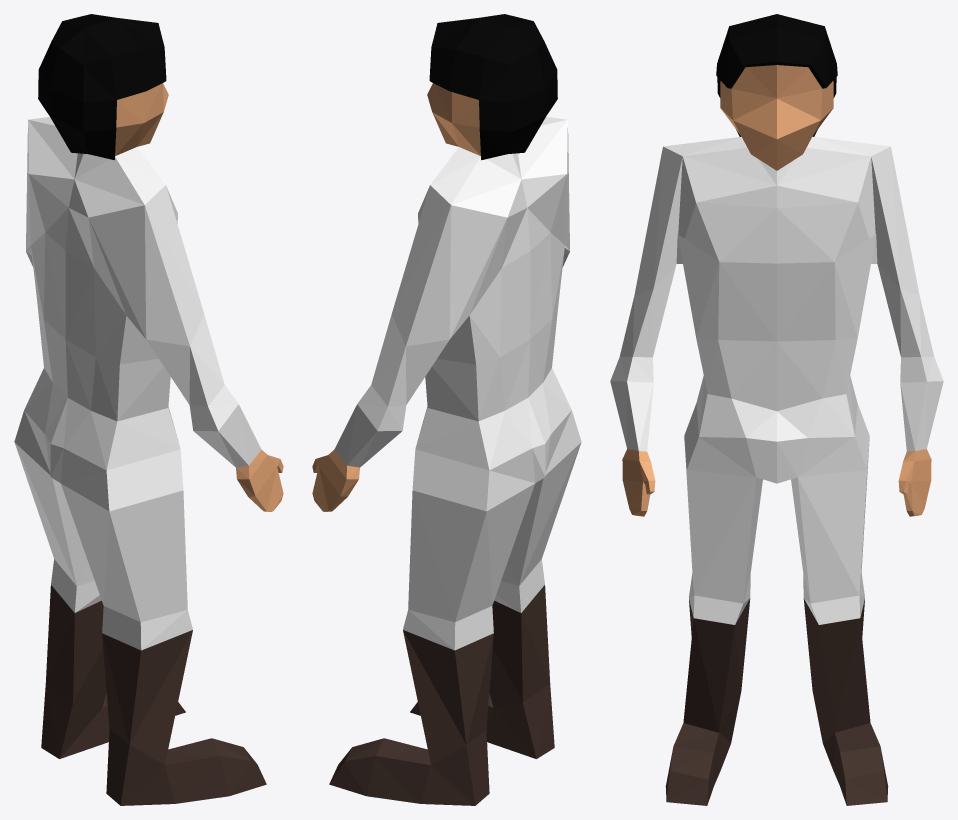
Rendered from syrianv4.obj.
The picture shows the model from 3 angles, left to right: view 1: azimuth 30°, elevation 25°; view 2: azimuth 150°, elevation 25°; view 3: azimuth 270°, elevation 25°; orthographic projection. The views are drawn at different scales.
Parts seen in each view (by area): view 1: body_Cube, hair_Cube.001; view 2: body_Cube, hair_Cube.001; view 3: body_Cube, hair_Cube.001.
Boxes of the visible parts, left/top/right/bottom form: body_Cube: left=14, top=83, right=283, bottom=805; hair_Cube.001: left=38, top=14, right=166, bottom=160; body_Cube: left=312, top=83, right=581, bottom=805; hair_Cube.001: left=429, top=14, right=557, bottom=160; body_Cube: left=610, top=65, right=943, bottom=805; hair_Cube.001: left=716, top=14, right=837, bottom=136.
Size of the model in its own units: 3.75 by 15.61 by 6.44.
Materials: 1 (1 with a texture image).
